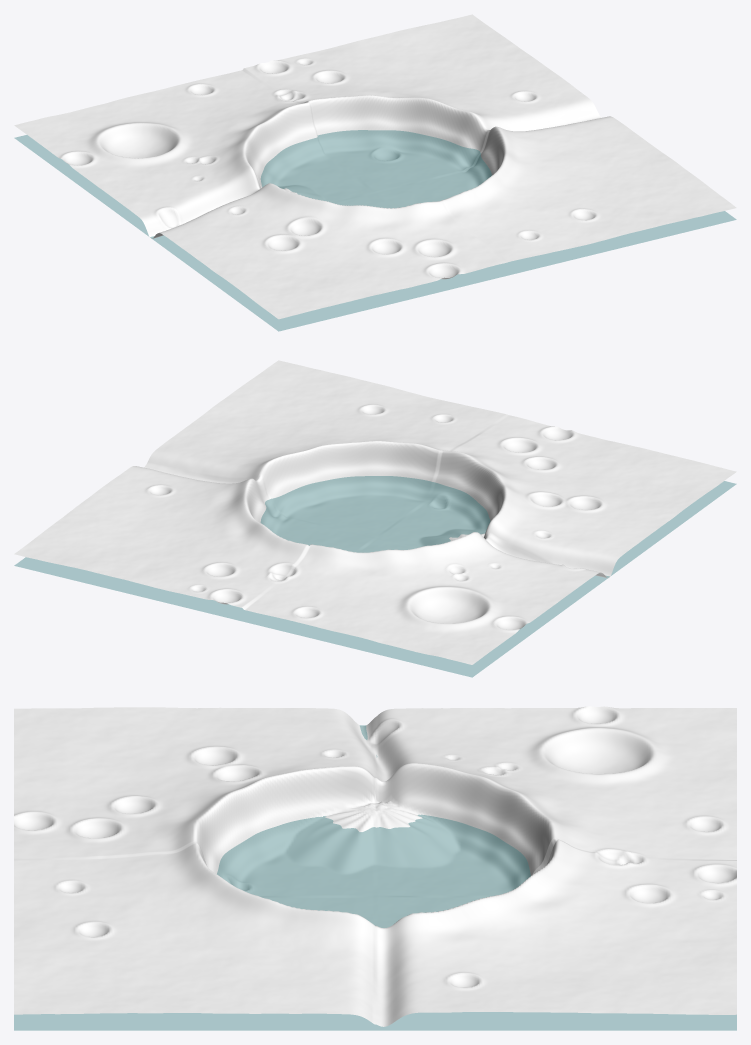
File: Crater.glb
The picture shows the model from 3 angles, top to bottom: view 1: azimuth 30°, elevation 25°; view 2: azimuth 150°, elevation 25°; view 3: azimuth 270°, elevation 25°; orthographic projection. The views are drawn at different scales.
Visible parts, largest first — view 1: Jezero_Terreno, Jezero_Lago; view 2: Jezero_Terreno, Jezero_Lago; view 3: Jezero_Terreno, Jezero_Lago.
Boxes of the visible parts, x1=… form: Jezero_Terreno: x1=14, y1=14, x2=736, y2=319; Jezero_Lago: x1=15, y1=130, x2=736, y2=331; Jezero_Terreno: x1=14, y1=360, x2=736, y2=664; Jezero_Lago: x1=14, y1=476, x2=735, y2=677; Jezero_Terreno: x1=14, y1=706, x2=736, y2=1026; Jezero_Lago: x1=14, y1=725, x2=736, y2=1030.
Size of the model in its own units: 130 by 13.01 by 130.
